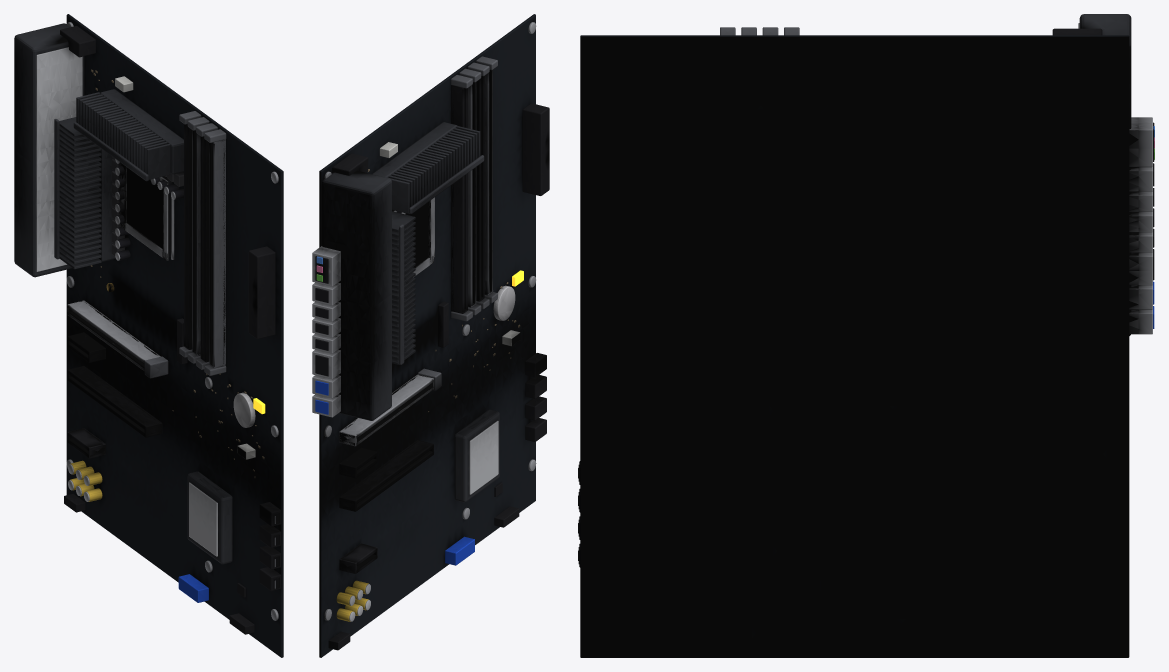
Rendered from board.glb.
3 views of the same model, side by side, from view 1: azimuth 30°, elevation 25°; view 2: azimuth 150°, elevation 25°; view 3: azimuth 270°, elevation 25° (orthographic). The views are drawn at different scales.
Parts seen in each view (by area): view 1: X_board; view 2: X_board; view 3: X_board.
Boxes of the visible parts, left/top/right/bottom form: X_board: left=14, top=14, right=283, bottom=657; X_board: left=312, top=14, right=549, bottom=657; X_board: left=578, top=14, right=1154, bottom=657.
Bounding box in the file's own units: 0.036 × 0.305 × 0.2564.
